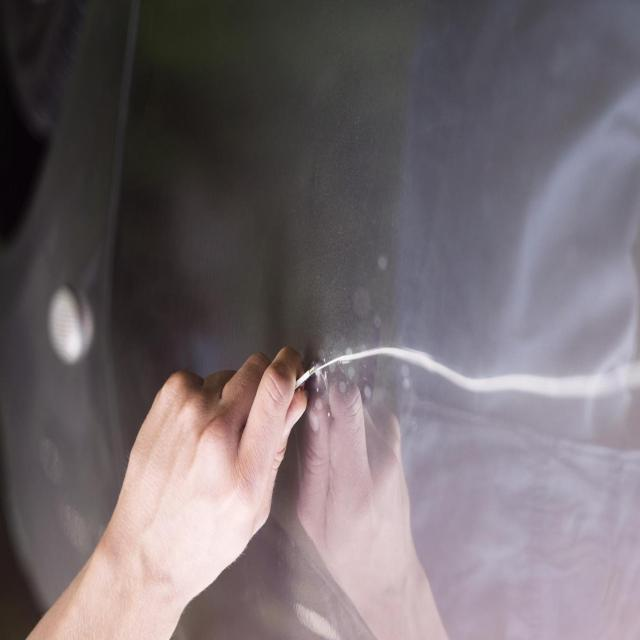scratch: (309, 336, 635, 424)
